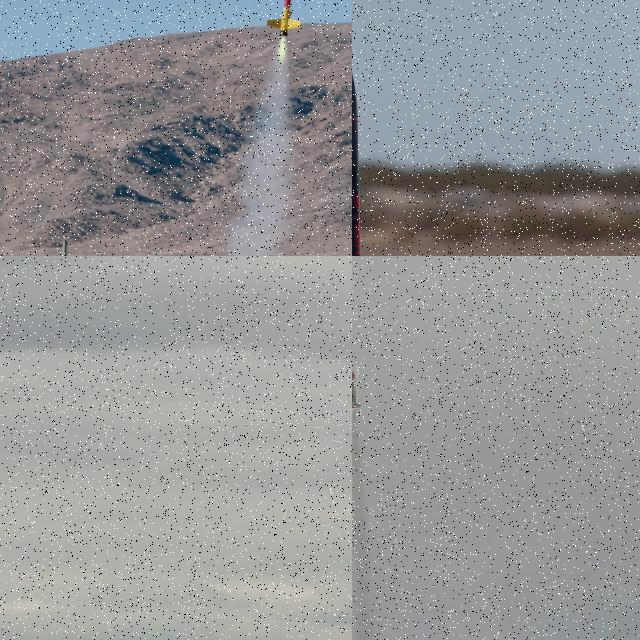Rocket: (352, 65, 379, 256), (265, 0, 302, 37), (352, 370, 360, 410)
